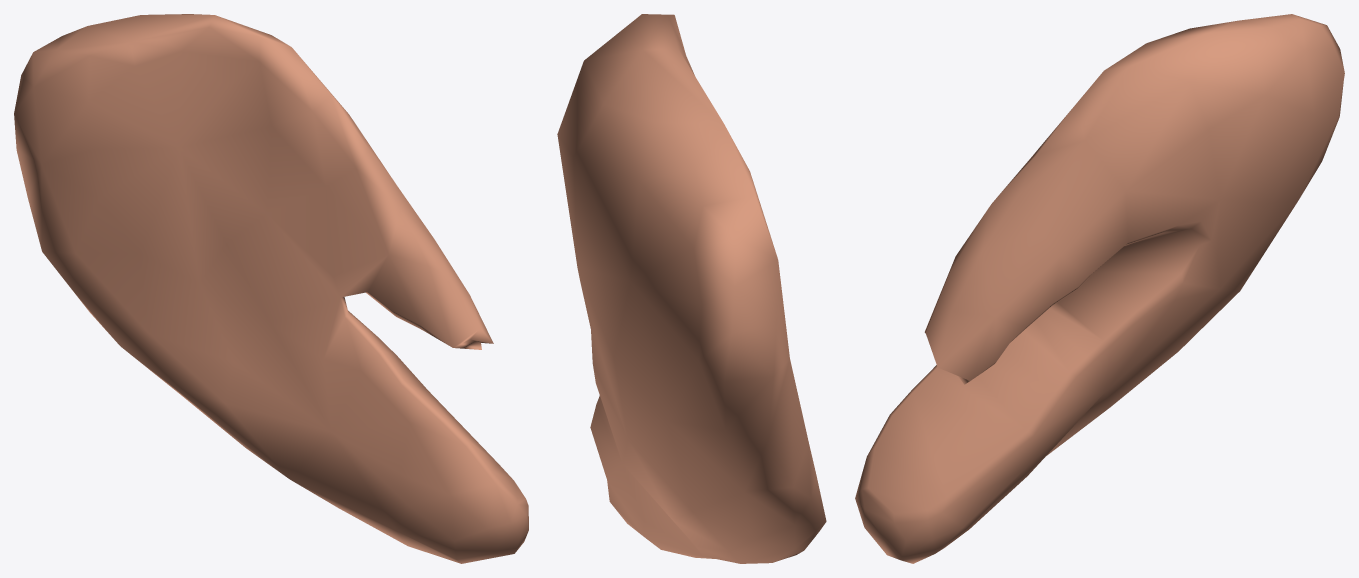
Rendered from submandibular-gland-r.glb.
3 views of the same model, side by side, from view 1: azimuth 30°, elevation 25°; view 2: azimuth 150°, elevation 25°; view 3: azimuth 270°, elevation 25° (orthographic). The views are drawn at different scales.
Parts seen in each view (by area): view 1: Submandibular gland.r; view 2: Submandibular gland.r; view 3: Submandibular gland.r.
Part boxes in pixels (left/top/right/bottom): Submandibular gland.r: left=14, top=14, right=528, bottom=563; Submandibular gland.r: left=557, top=14, right=826, bottom=563; Submandibular gland.r: left=855, top=14, right=1344, bottom=563.
Bounding box in the file's own units: 0.0157 × 0.0226 × 0.0217.
